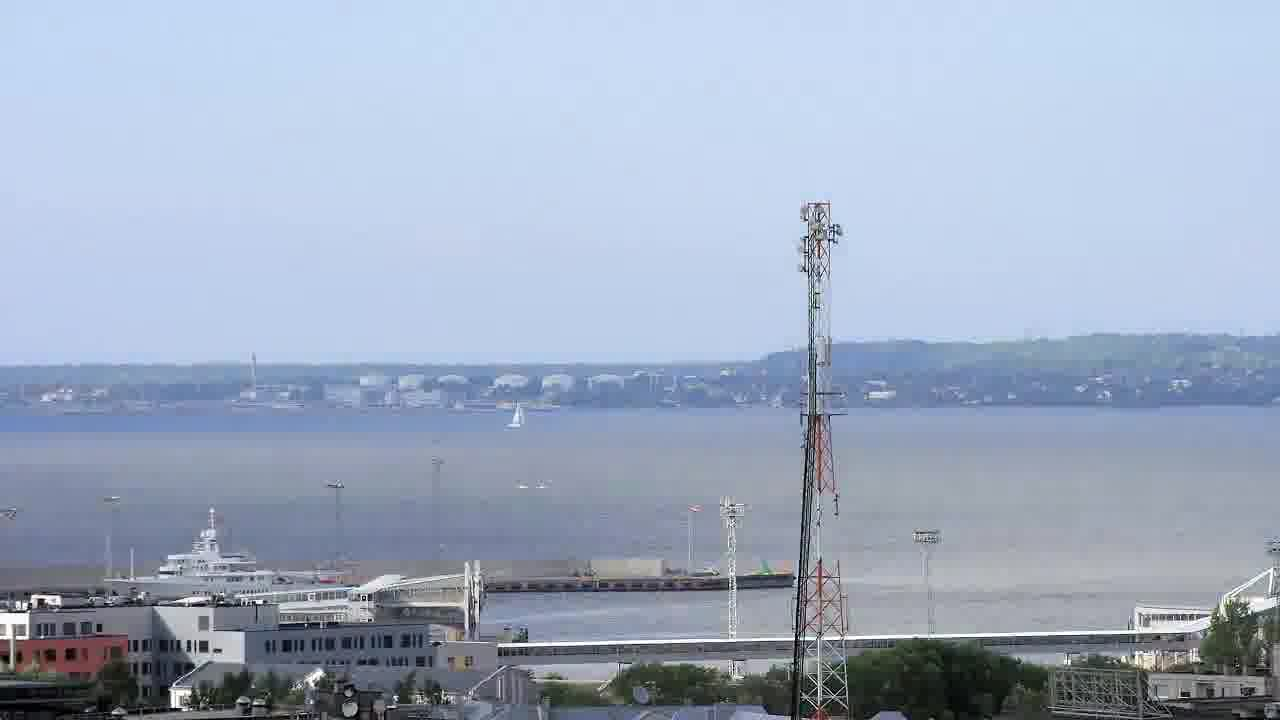type-2: (494, 385, 544, 444)
type-3: (88, 507, 346, 605)
